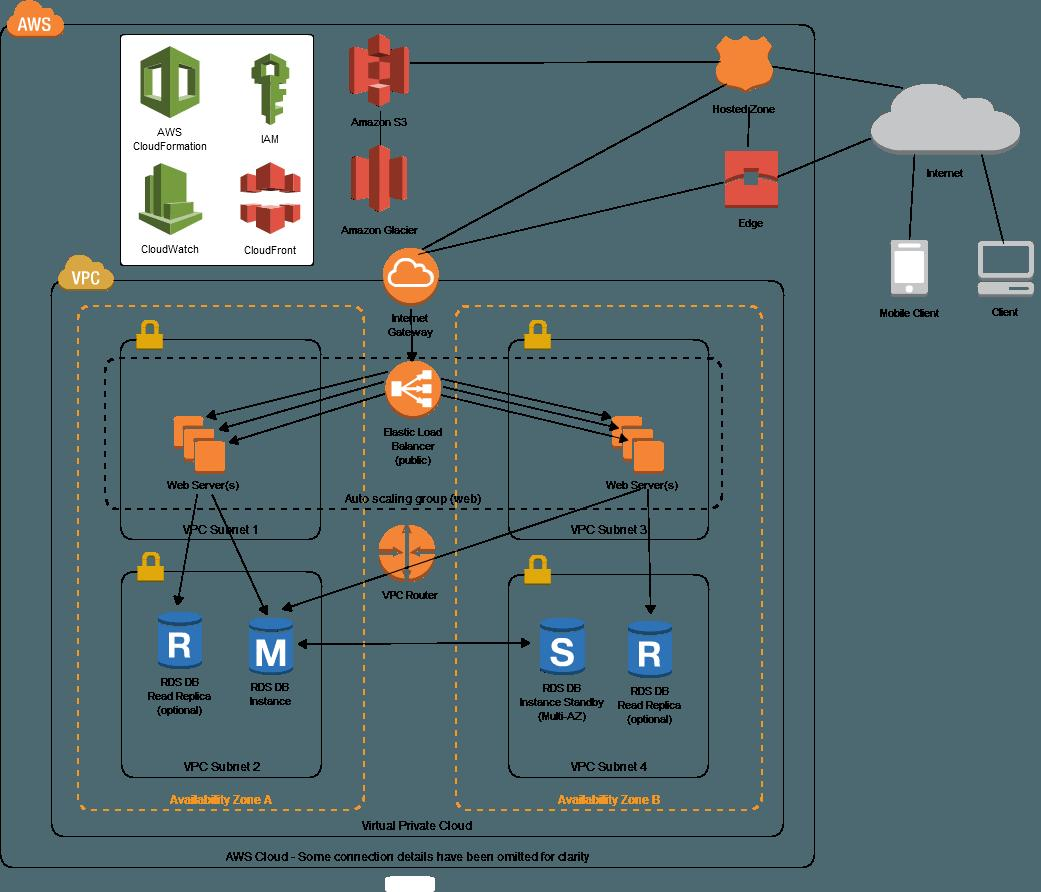Cloud Watch: (136, 158, 207, 238)
CloudFormation Stack: (131, 40, 206, 121)
Cloudfront: (228, 155, 308, 237)
Dynamo DB: (242, 608, 301, 682), (619, 614, 681, 683), (151, 604, 210, 675), (535, 608, 589, 681)
EC2: (165, 411, 237, 478), (601, 408, 669, 478)
ELB: (382, 355, 446, 421)
Edge Location: (716, 140, 789, 216)
Internet: (868, 72, 1026, 163), (378, 242, 449, 307)
Mobile Client: (881, 228, 940, 304)
Public Subnet: (513, 307, 561, 355), (125, 311, 172, 357), (516, 542, 560, 591), (128, 542, 172, 589)
Route53: (709, 27, 780, 98)
S3: (342, 20, 418, 110), (346, 142, 413, 215)
VPC Router: (372, 520, 441, 586)
Web Clients: (966, 228, 1041, 305)
aws: (0, 0, 81, 47)
